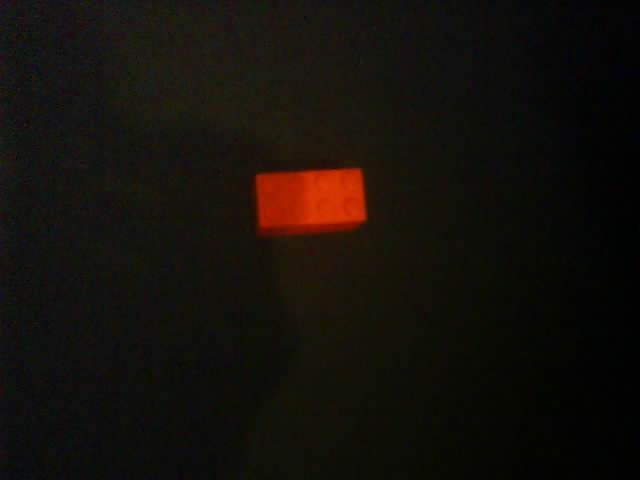lego: (253, 167, 369, 236)
